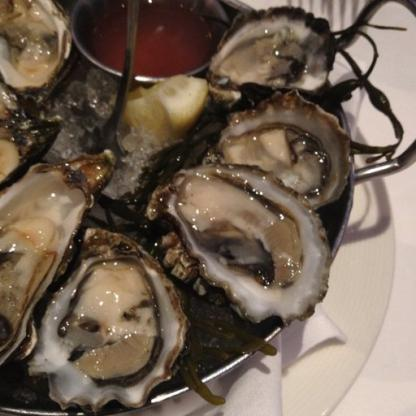oyster: (34, 233, 185, 415), (164, 165, 332, 323), (0, 150, 107, 372), (226, 94, 348, 204), (206, 9, 342, 100)
